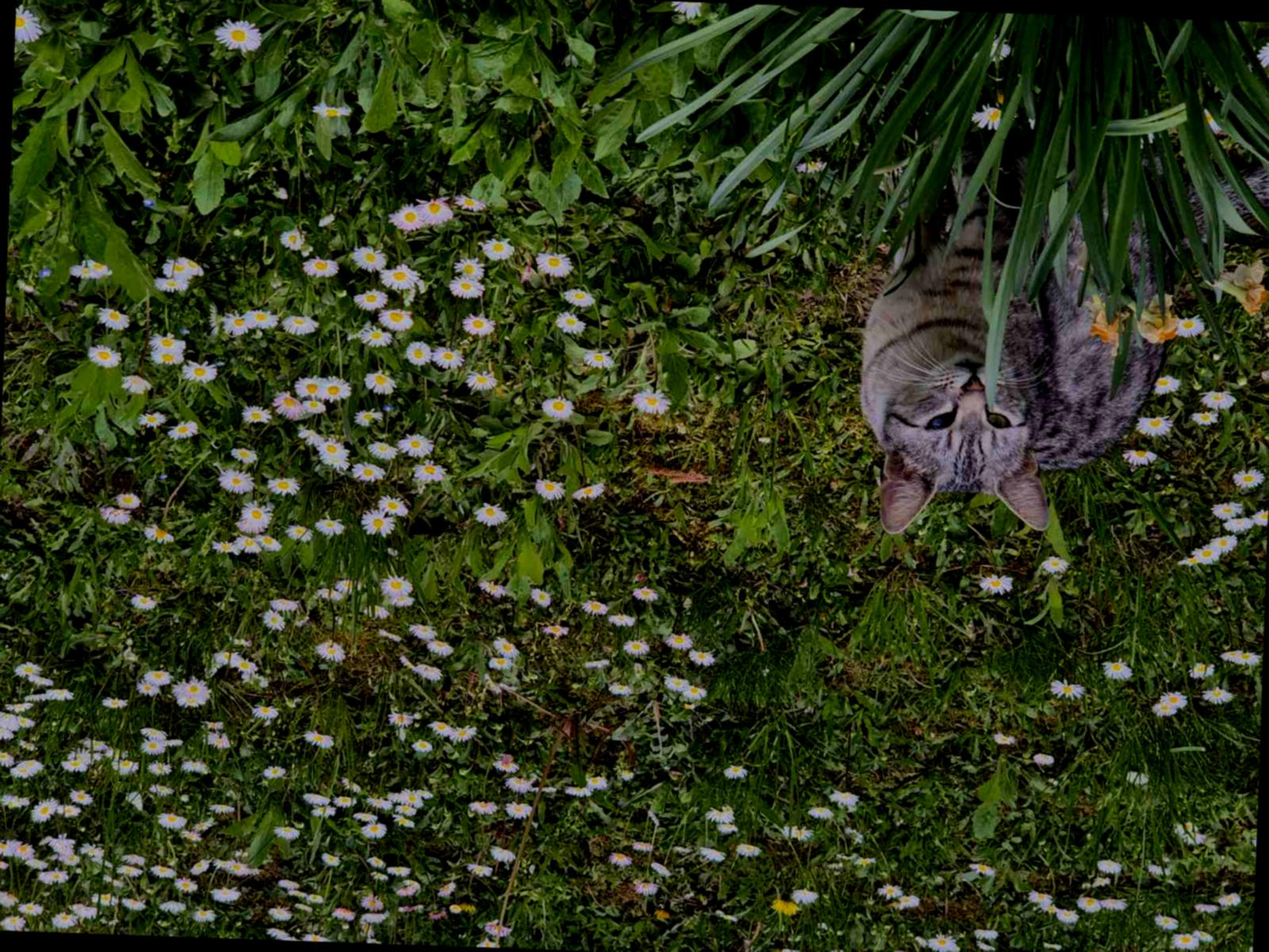macka: (854, 52, 1269, 549)
